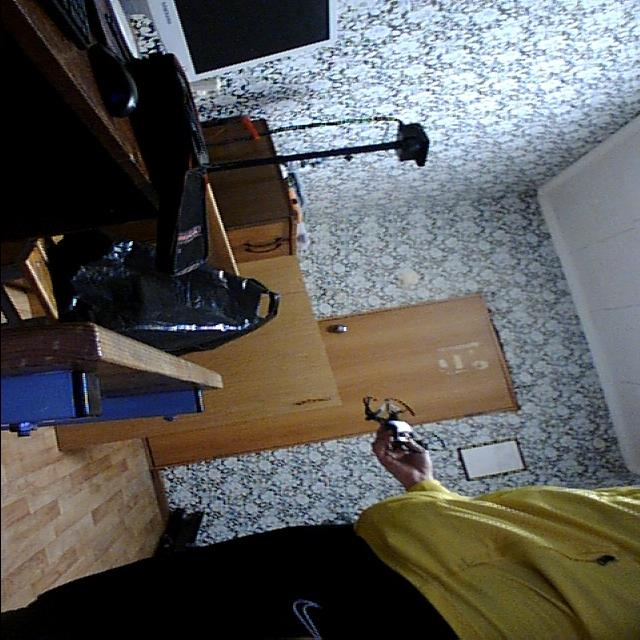drone: (353, 394, 435, 464)
